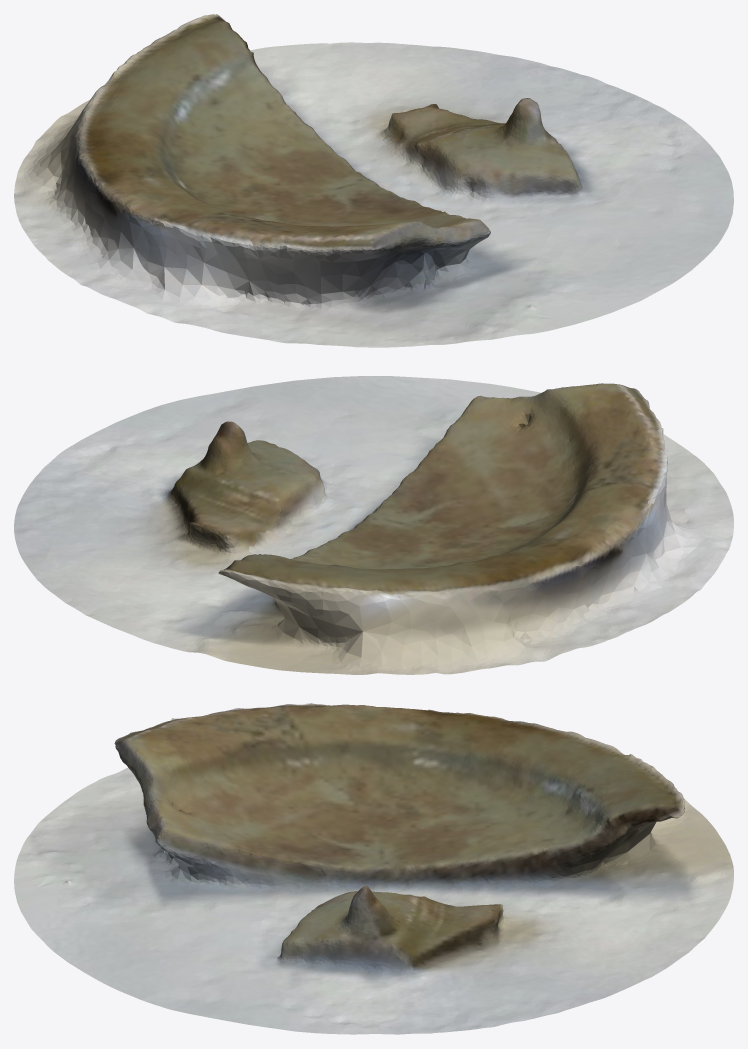
Rendered from model09_small.glb.
3 renders of one model, top to bottom at view 1: azimuth 30°, elevation 25°; view 2: azimuth 150°, elevation 25°; view 3: azimuth 270°, elevation 25°, orthographic.
Visible parts, largest first — view 1: mesh; view 2: mesh; view 3: mesh.
Boxes of the visible parts, x1,y1,x2,y2 form: mesh: [14, 14, 733, 347]; mesh: [14, 376, 733, 674]; mesh: [14, 703, 733, 1034].
Bounding box in the file's own units: 0.2319 × 0.0306 × 0.232.
1 material, 1 textured.
